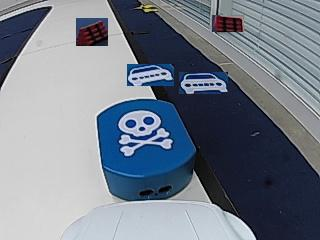danger: (117, 110, 172, 155)
